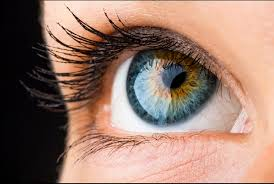pupil: (127, 50, 218, 126)
